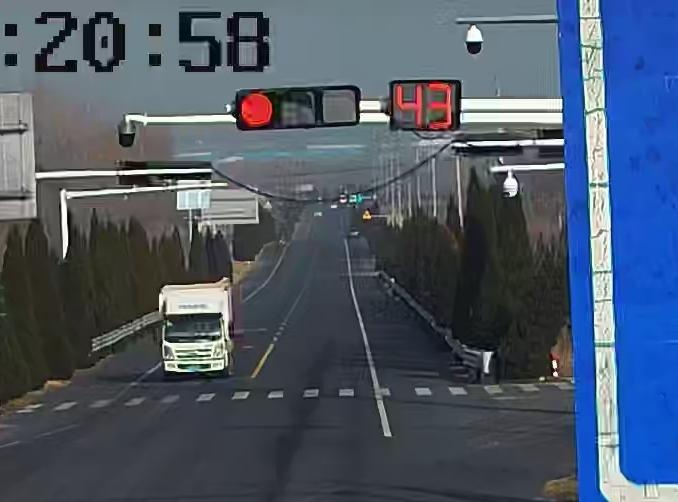red: (237, 92, 275, 130)
redtime: (393, 81, 457, 130)
